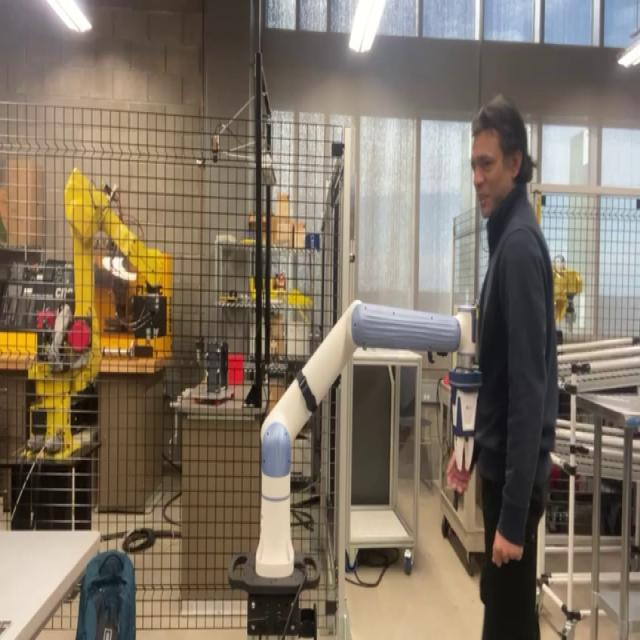human: (468, 93, 558, 638)
